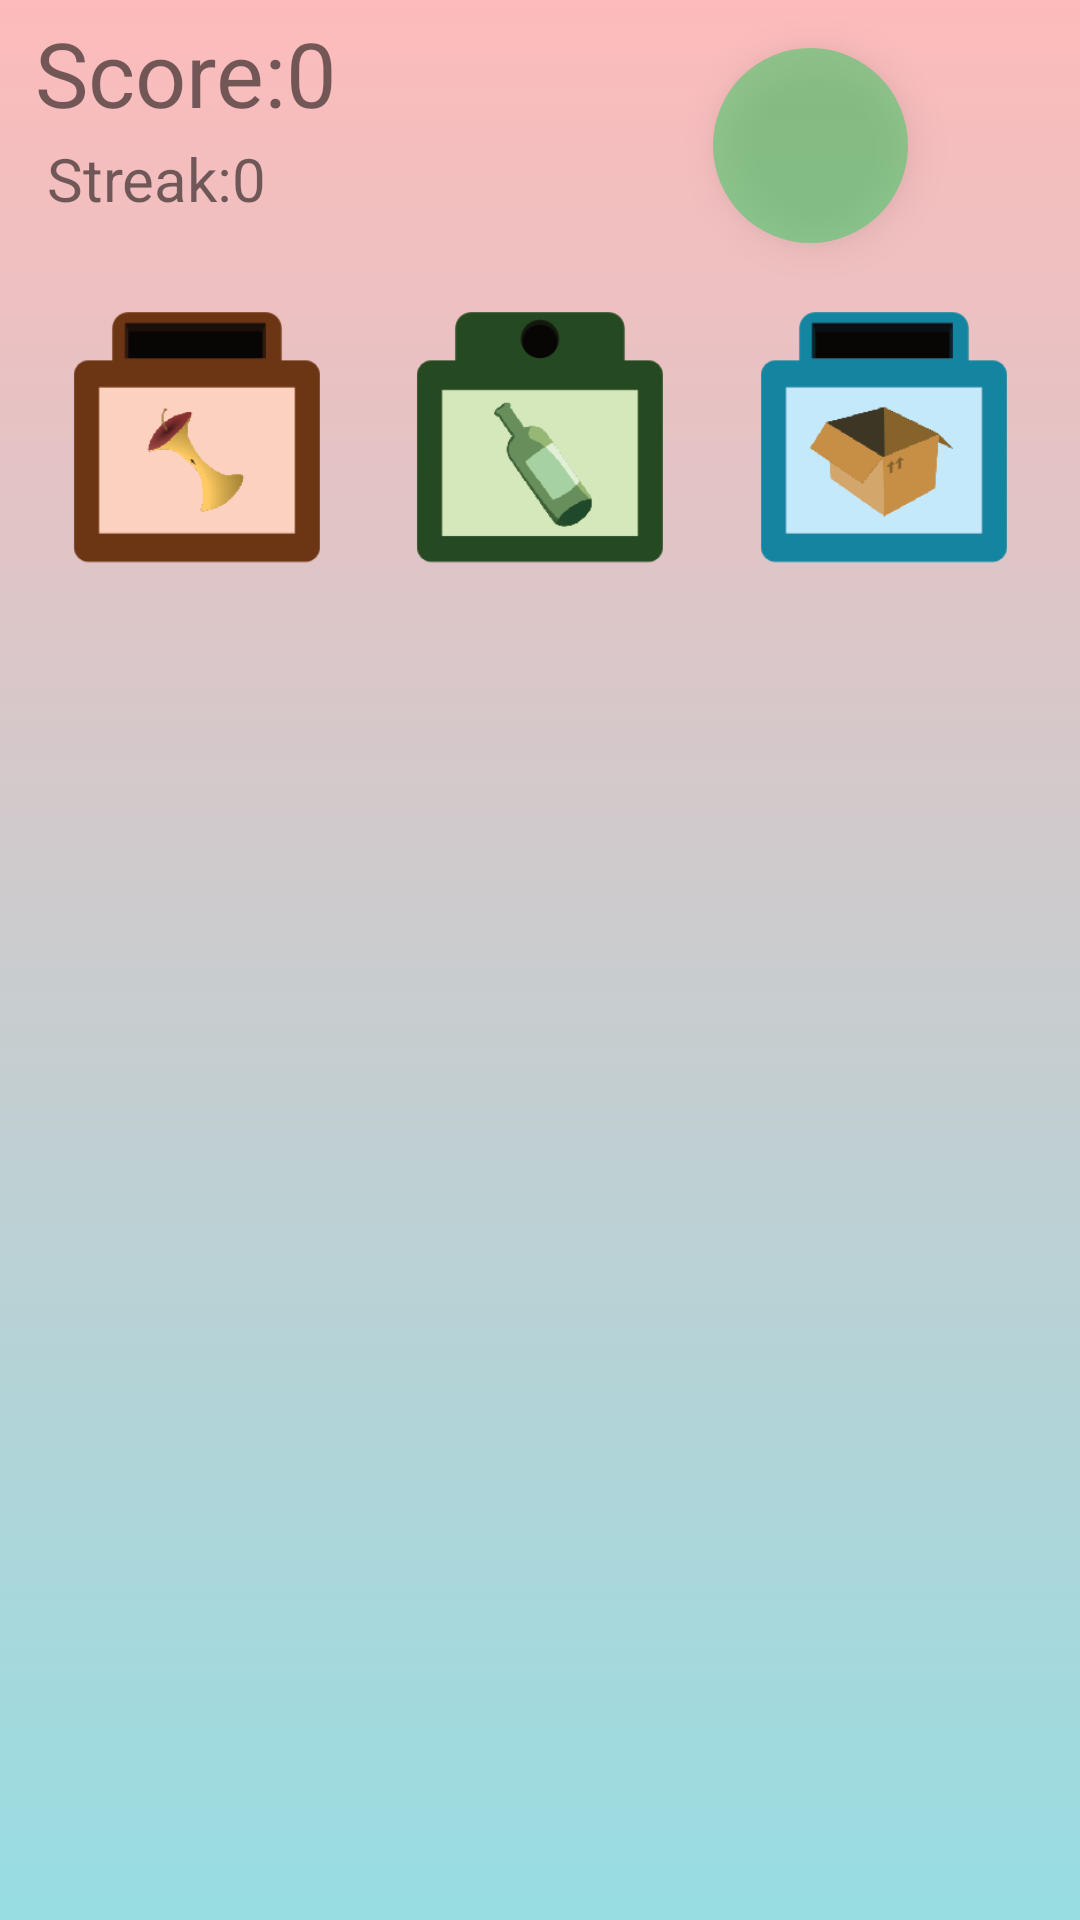

Screen size 1080*1920. Icon name, then its center in pixels as [x,y]:
glassortering: [540,437]
organisksortering: [197,437]
papperssortering: [884,437]
